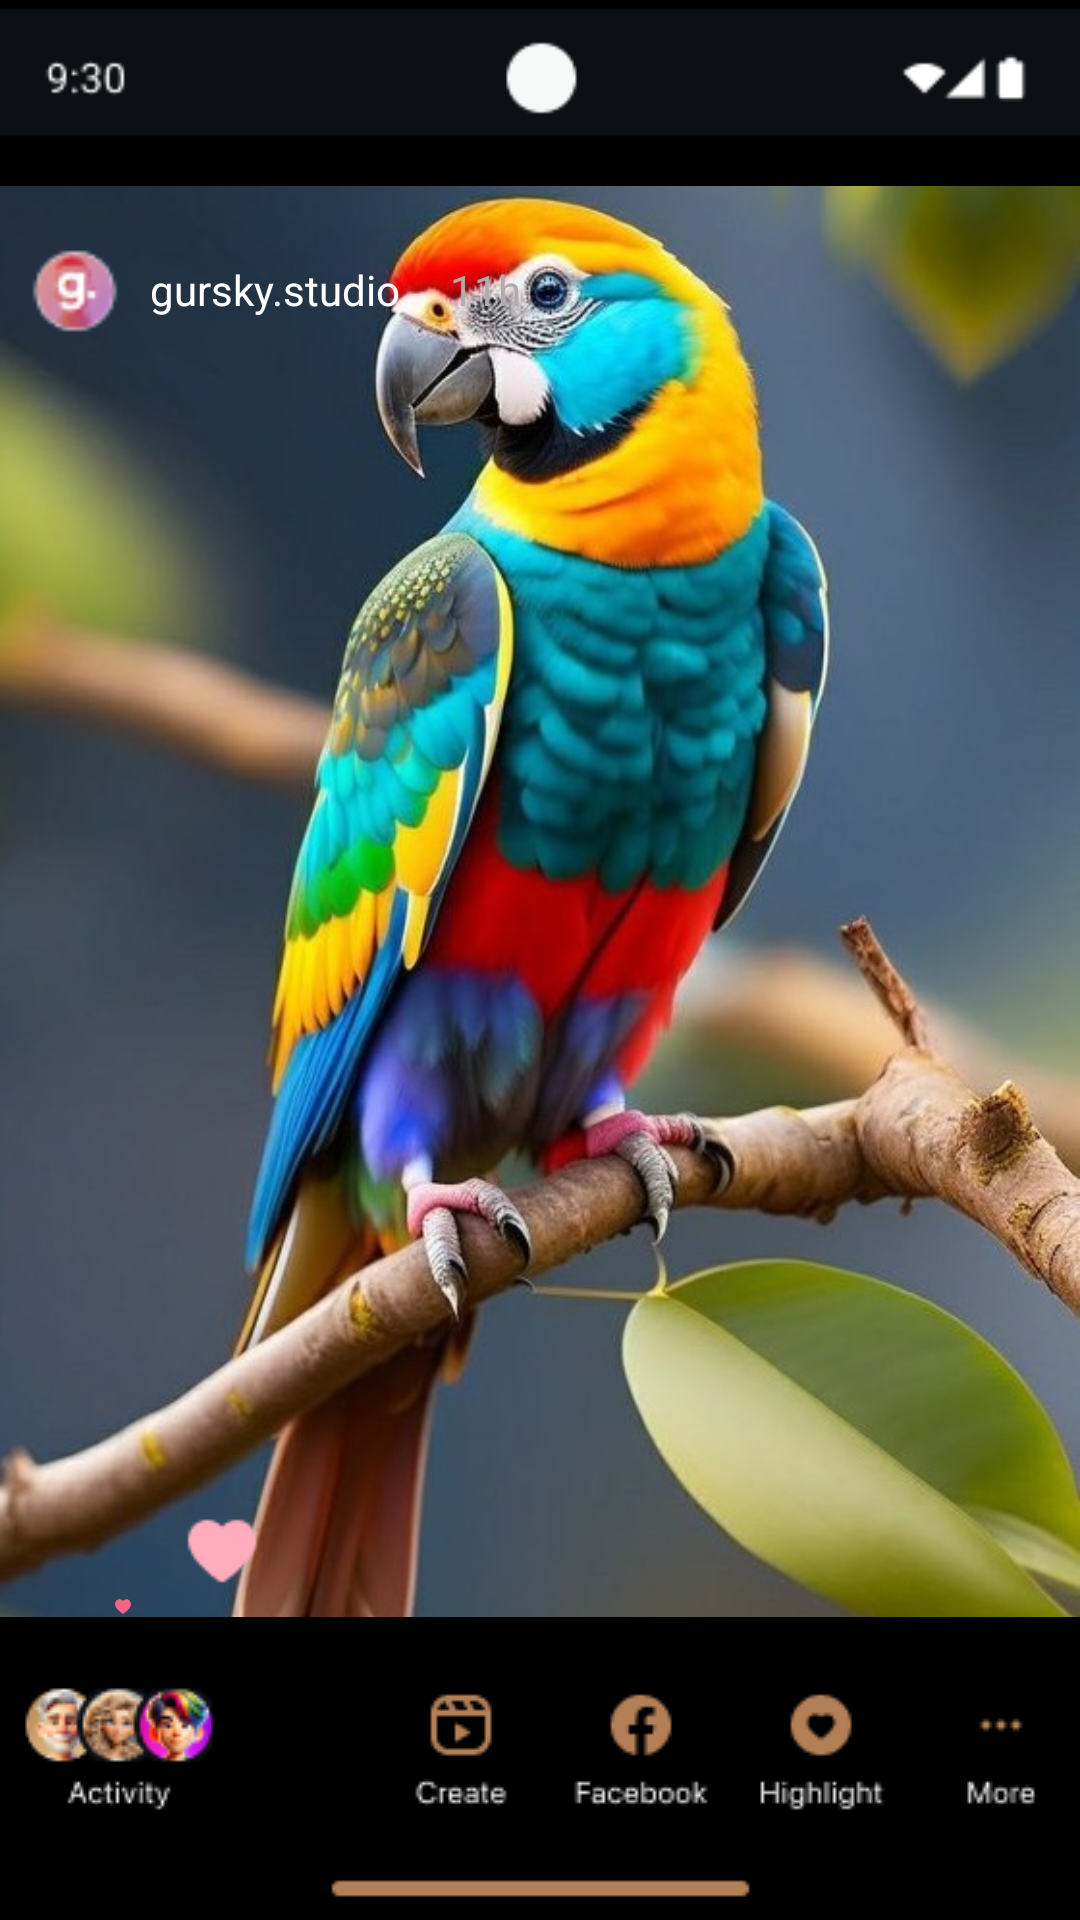

Where to tap for icons on this 1080*1920 app screen, as [x,y]:
gprofile: [75,291]
